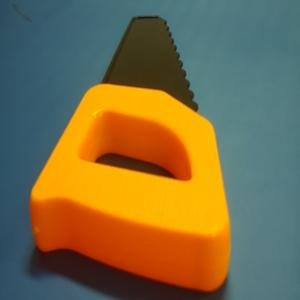serrote: (31, 12, 230, 296)
